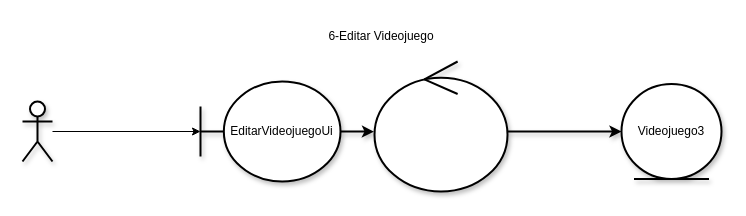
This 746x216 diagram has some shape labels left out. The shapes that lost their labels are listed below. From the top down, each one's centre as x and y in pixels, then its label:
At pixel 38 132: "Usuario".
At pixel 441 127: "EditarVideojuegoAction".
